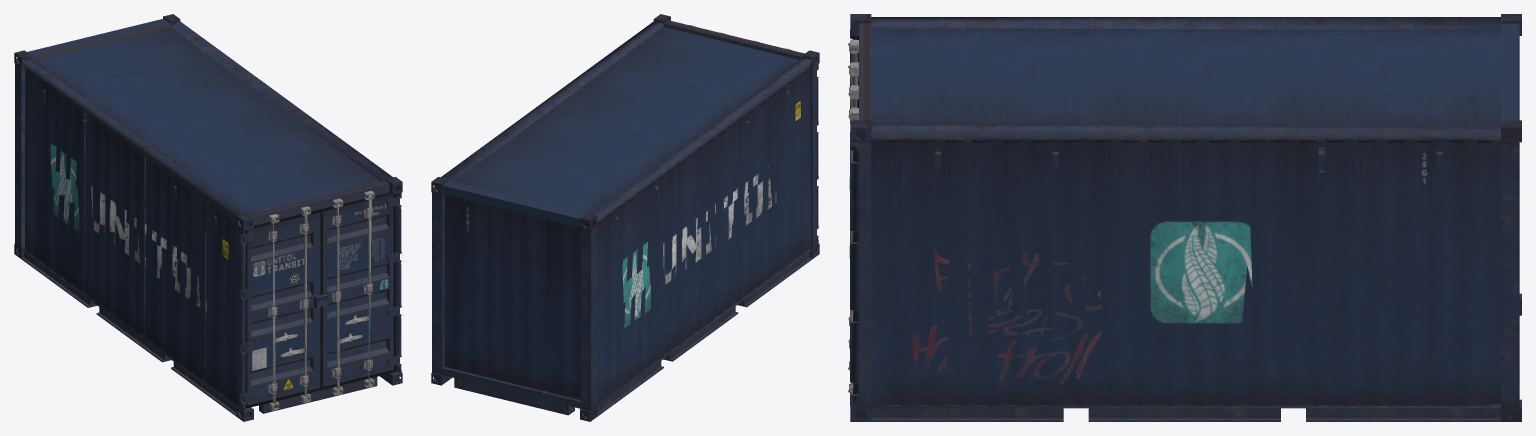
File: container_top.glb
The picture shows the model from 3 angles, left to right: view 1: azimuth 30°, elevation 25°; view 2: azimuth 150°, elevation 25°; view 3: azimuth 270°, elevation 25°; orthographic projection. The views are drawn at different scales.
Parts seen in each view (by area): view 1: Container_UV_SET_01_0; view 2: Container_UV_SET_01_0; view 3: Container_UV_SET_01_0.
Part boxes in pixels (box(x1,y1,x2,y2)): Container_UV_SET_01_0: box(14, 14, 402, 421); Container_UV_SET_01_0: box(431, 14, 819, 421); Container_UV_SET_01_0: box(848, 14, 1521, 421).
Bounding box in the file's own units: 2.42 × 2.92 × 6.06.
Materials: 2 (2 with a texture image).
